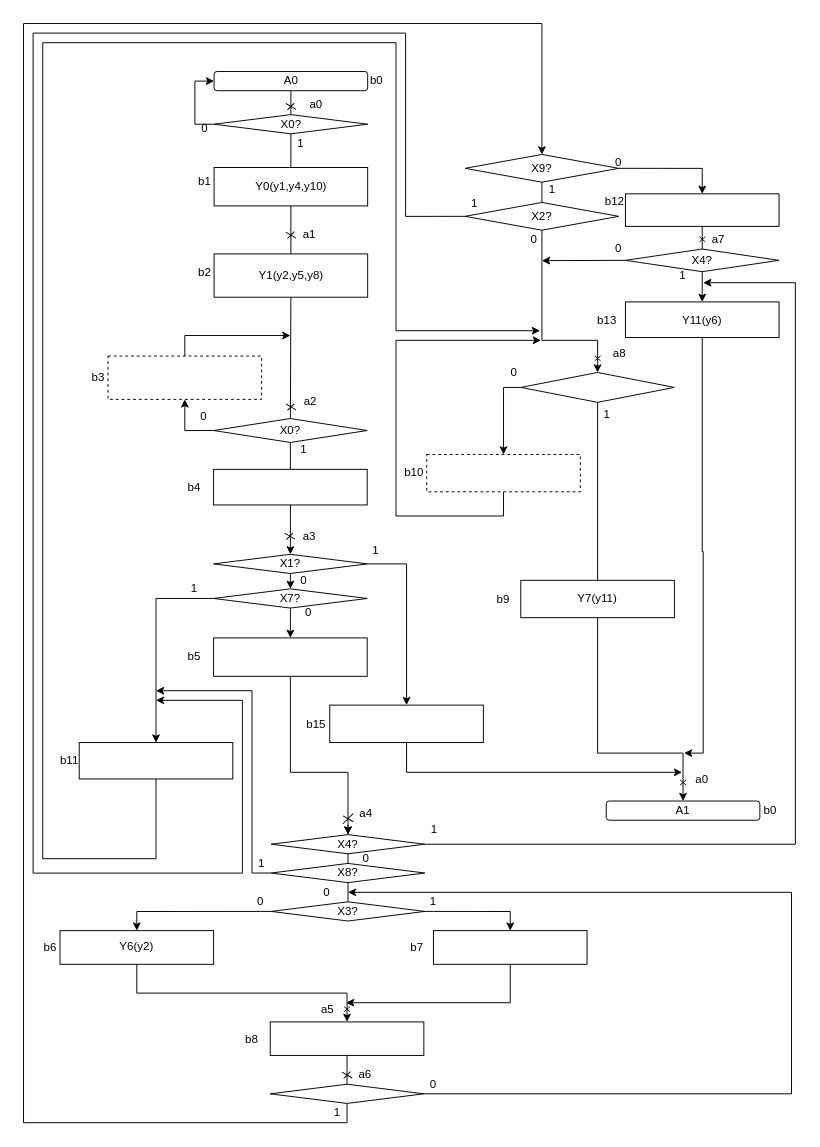
The diagram is 820 pixels wide and 1147 high, and some of its shapes have lost their labels. Here are the shapes that lost their labels. From the top down, the centre of each, then its label:
the point at 701,209: Y10(y7)
the point at 597,387: X5?
the point at 290,486: Y2(y1)
the point at 290,656: Y3(y8,y9)
the point at 406,723: Y8(y5)
the point at 155,760: Y9(y0,y10)
the point at 509,947: Y4(y2,y9)
the point at 346,1038: Y5(y3)
the point at 346,1093: X6?
